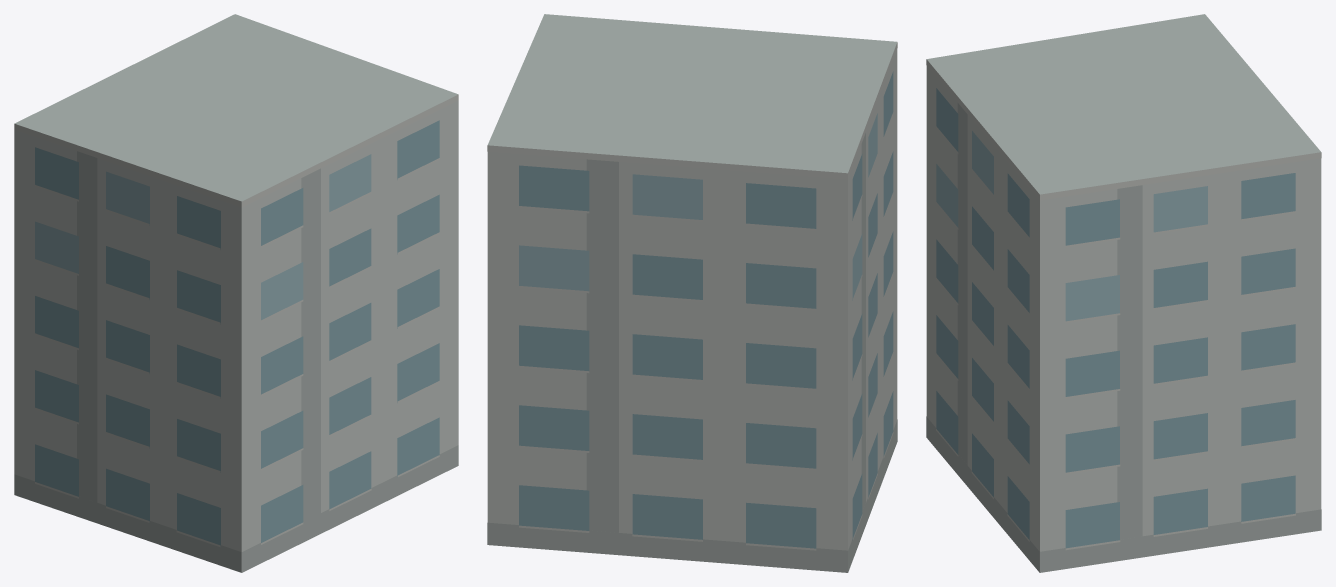
The model's file is residential-889be821-e2f6-431c-88d6-c9315601a524.glb.
3 views of the same model, side by side, from view 1: azimuth 30°, elevation 25°; view 2: azimuth 150°, elevation 25°; view 3: azimuth 270°, elevation 25° (orthographic). The views are drawn at different scales.
Parts seen in each view (by area): view 1: residential-889be821-e2f6-431c-88d6-c9315601a524.tmp; view 2: residential-889be821-e2f6-431c-88d6-c9315601a524.tmp; view 3: residential-889be821-e2f6-431c-88d6-c9315601a524.tmp.
Part boxes in pixels (<box>): residential-889be821-e2f6-431c-88d6-c9315601a524.tmp: <box>14,14,458,572</box>; residential-889be821-e2f6-431c-88d6-c9315601a524.tmp: <box>487,14,897,572</box>; residential-889be821-e2f6-431c-88d6-c9315601a524.tmp: <box>926,14,1321,572</box>.
Bounding box in the file's own units: 15.62 × 15.25 × 14.44.
